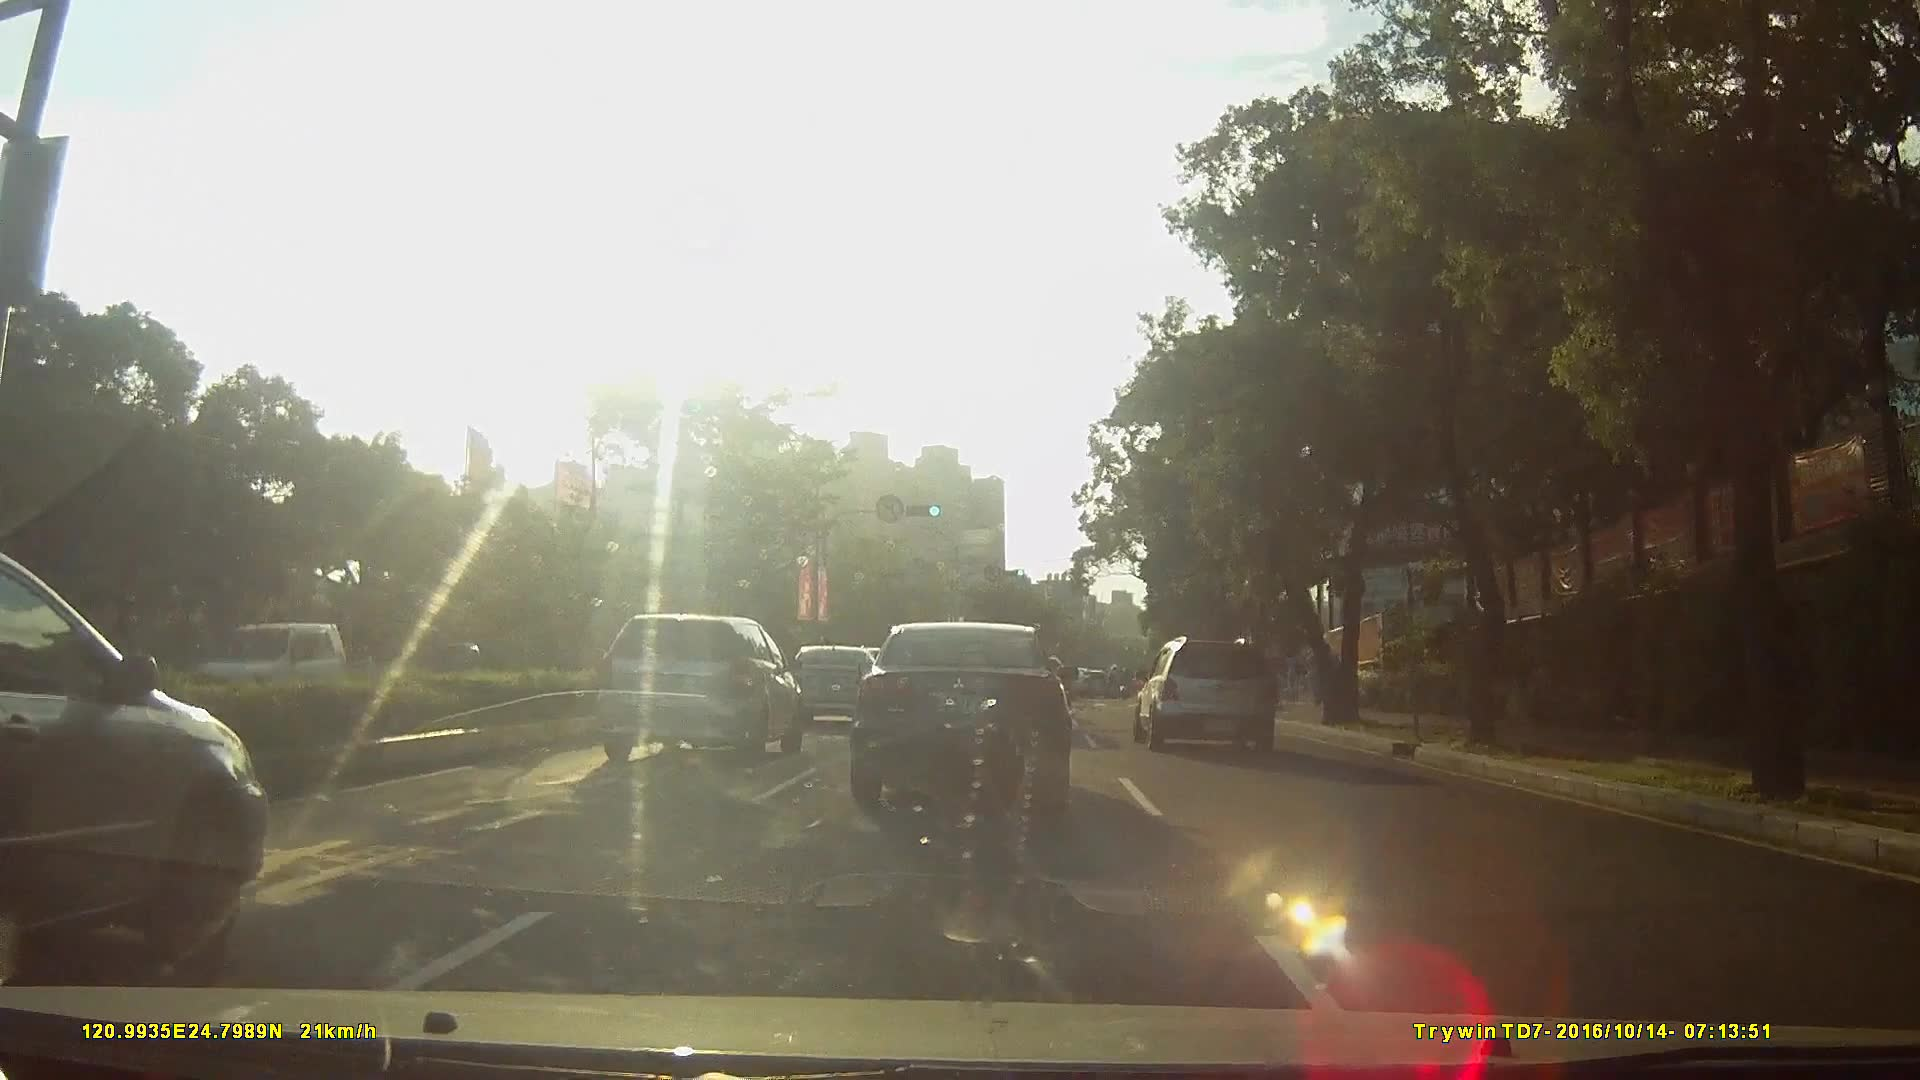vehicle: (1, 543, 293, 993), (851, 615, 1075, 816), (585, 607, 800, 760), (1133, 625, 1291, 744), (167, 617, 327, 711), (779, 638, 893, 721), (1073, 663, 1108, 694)
